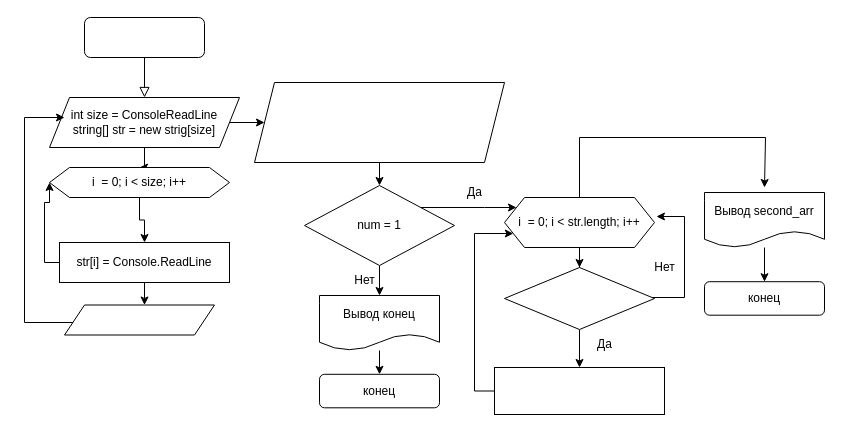
The diagram is 842 pixels wide and 432 high, and some of its shapes have lost their labels. Each missing label, with the centre of its shape:
"return str" belongs at pixel 139 319.
"second_arr[count] = str[i] count ++" belongs at pixel 579 390.
"Start" belongs at pixel 144 37.
"str[i] <= 3" belongs at pixel 579 298.
"string[] str string[] second_arr = new string[str.length] count = 0 num = 0" belongs at pixel 379 122.
